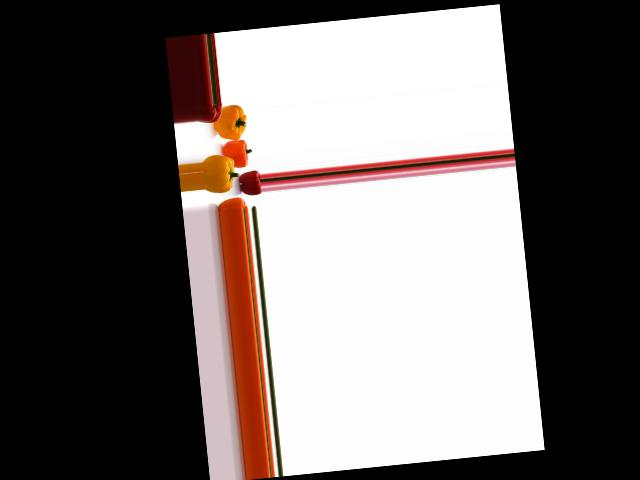bell_pepper: (216, 194, 248, 212)
